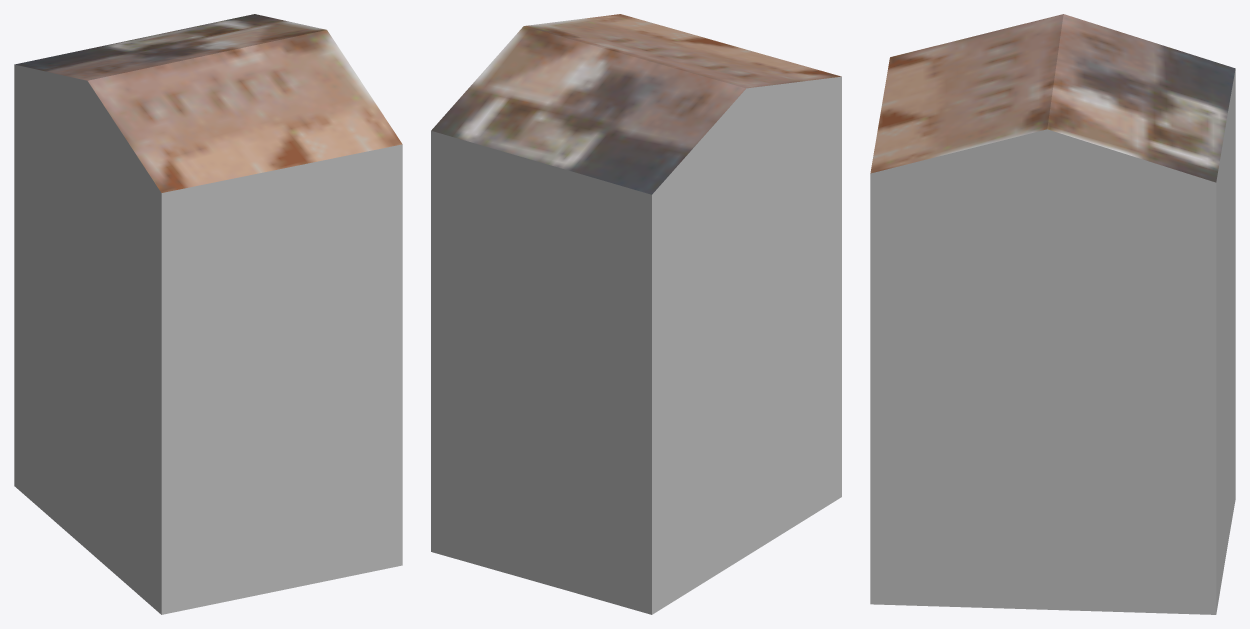
Rendered from DEBW_0010007Txgh.gltf.
3 views of the same model, side by side, from view 1: azimuth 30°, elevation 25°; view 2: azimuth 150°, elevation 25°; view 3: azimuth 270°, elevation 25° (orthographic). The views are drawn at different scales.
Parts seen in each view (by area): view 1: Z_UP; view 2: Z_UP; view 3: Z_UP.
Boxes of the visible parts, box(x1,y1,x2,y2) form: Z_UP: box(14, 14, 402, 614); Z_UP: box(431, 14, 841, 614); Z_UP: box(870, 14, 1235, 614).
Bounding box in the file's own units: 10.36 × 18.39 × 12.67.
Materials: 2 (1 with a texture image).
